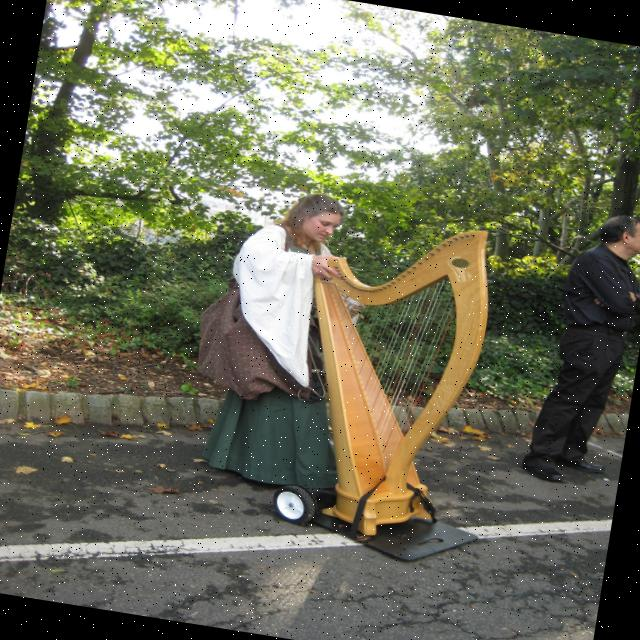harp: (266, 201, 504, 554)
